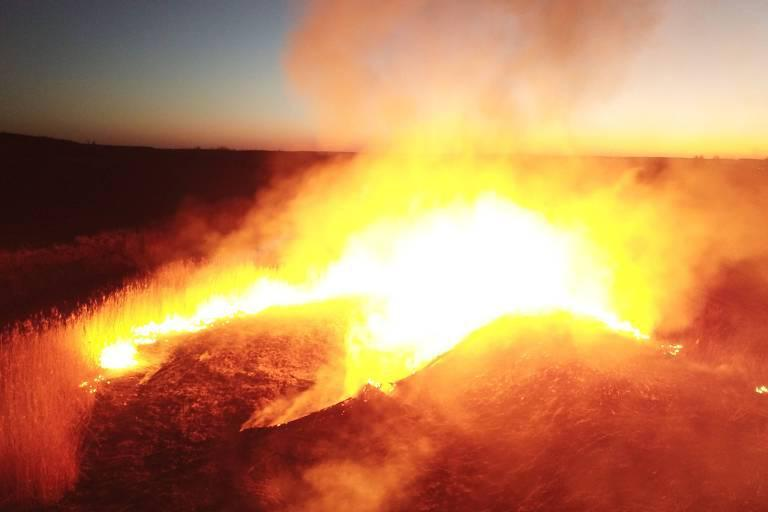Fire: (91, 194, 669, 386)
